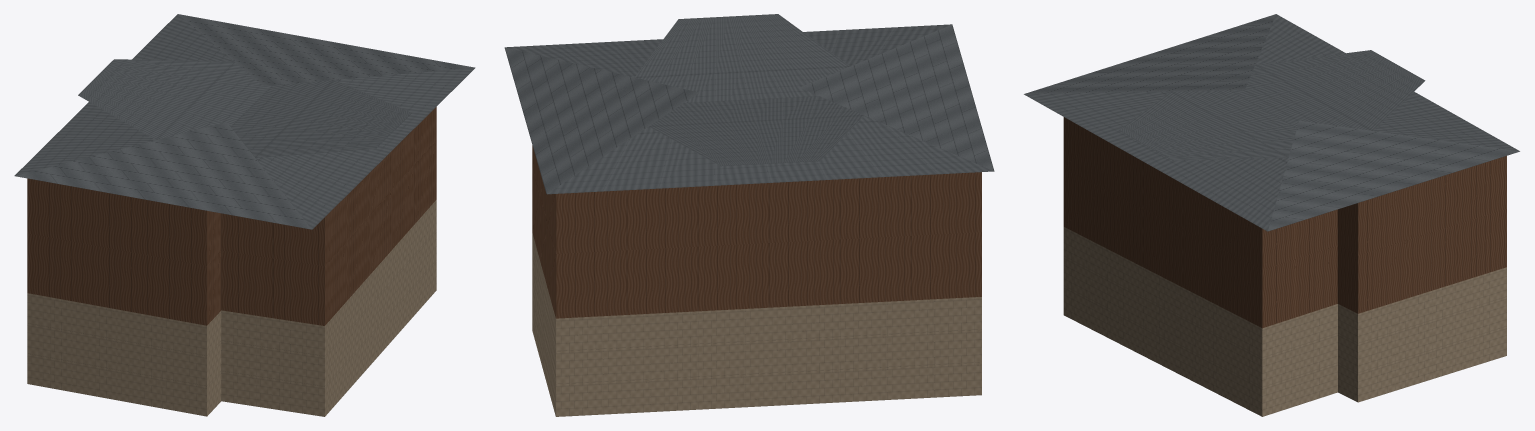
The model's file is bld_c11_10_504.gltf.
3 renders of one model, left to right at view 1: azimuth 30°, elevation 25°; view 2: azimuth 150°, elevation 25°; view 3: azimuth 270°, elevation 25°, orthographic. The views are drawn at different scales.
Visible parts, largest first — view 1: bld_c11_10_504; view 2: bld_c11_10_504; view 3: bld_c11_10_504.
Boxes of the visible parts, x1,y1,x2,y2 form: bld_c11_10_504: (14,14,475,416); bld_c11_10_504: (504,14,994,416); bld_c11_10_504: (1024,14,1519,416).
Bounding box in the file's own units: 26.85 × 12.8 × 25.91.
3 materials, 3 textured.
